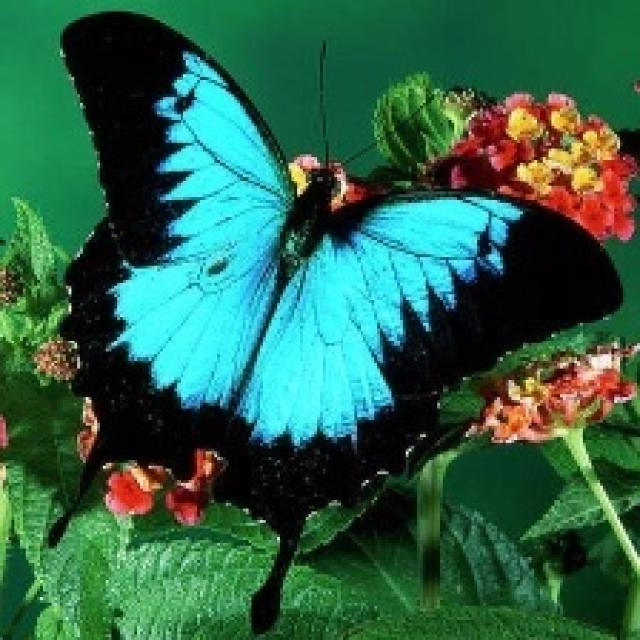butterfly: (46, 6, 623, 634)
